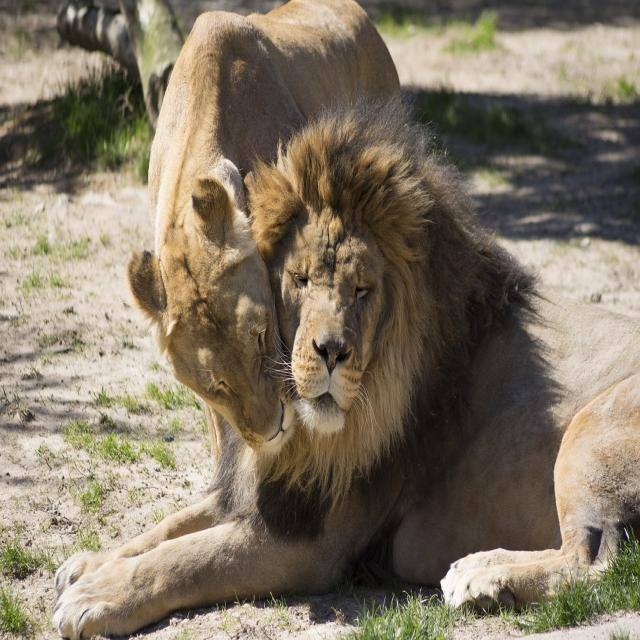Lion: (56, 115, 637, 633)
